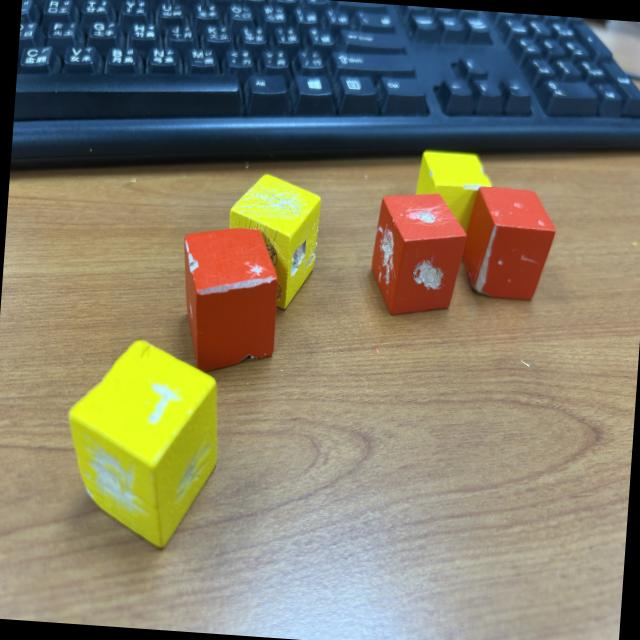broken: (58, 334, 226, 554), (174, 222, 282, 376), (222, 170, 324, 312), (367, 188, 469, 320), (458, 184, 558, 303), (411, 148, 495, 248)
